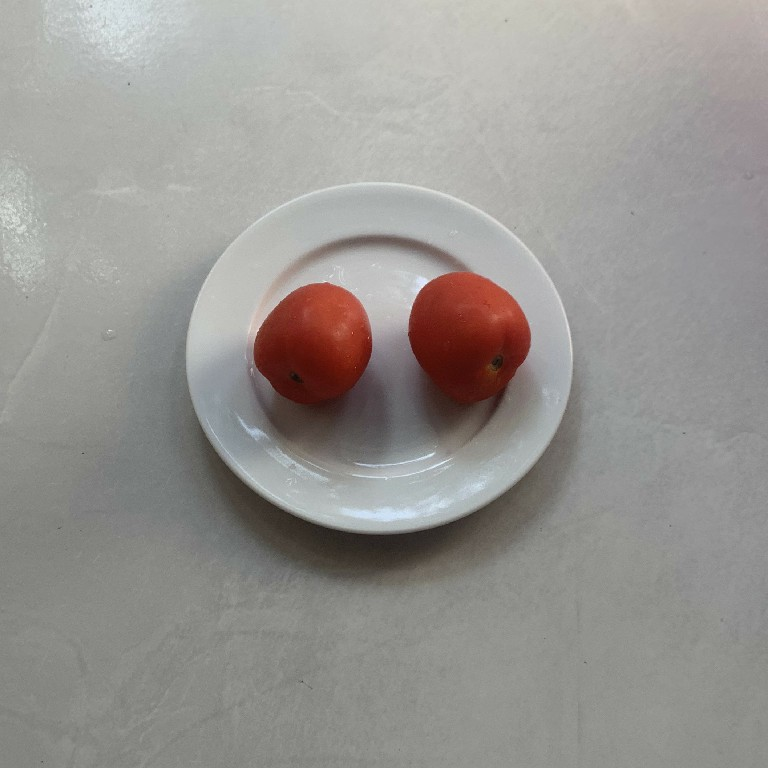OK: (407, 263, 529, 410), (246, 281, 366, 410)
